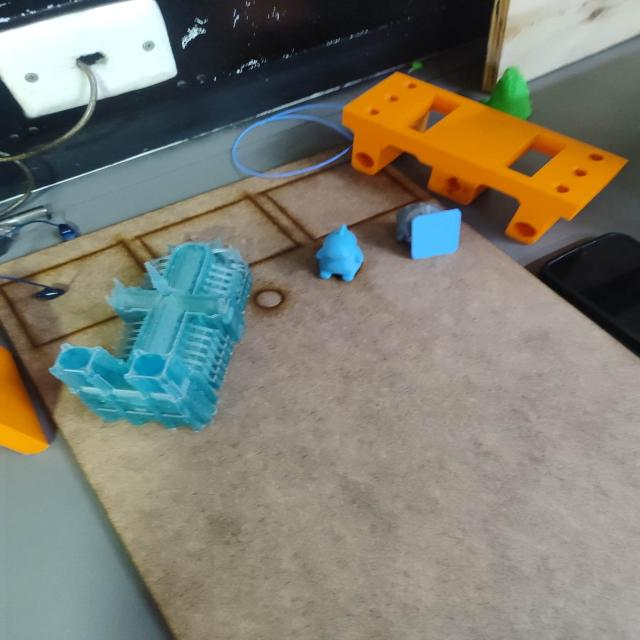DINO: (302, 220, 378, 280)
